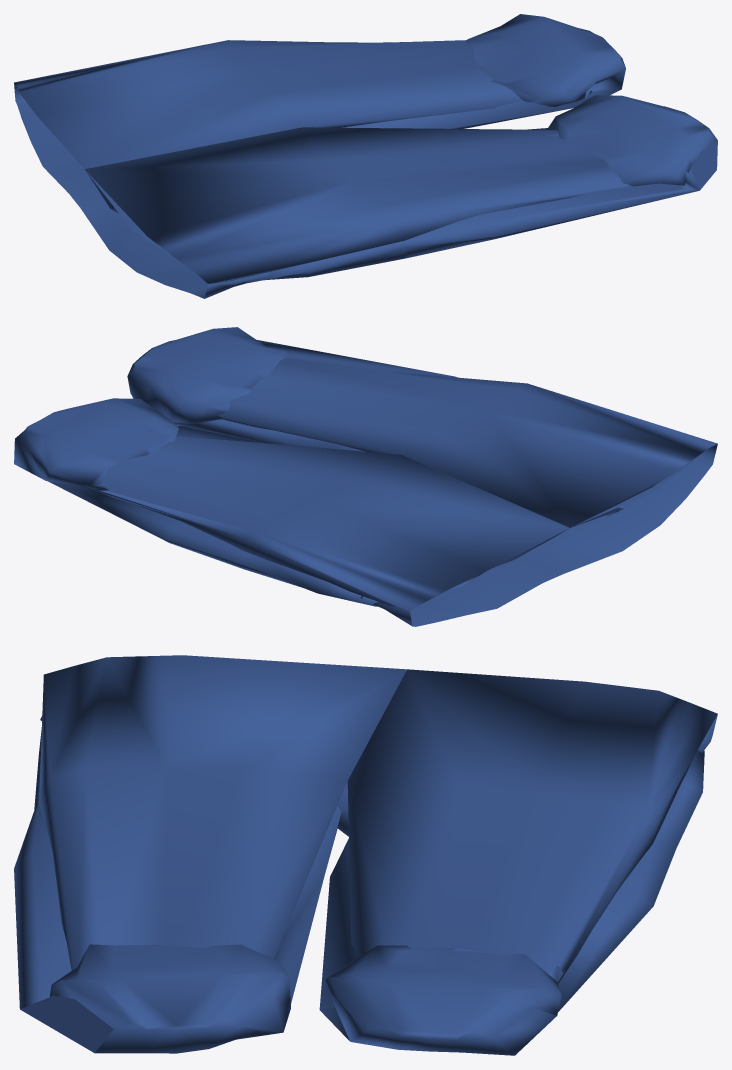
The model's file is slosht1.fbx.
The picture shows the model from 3 angles, top to bottom: view 1: azimuth 30°, elevation 25°; view 2: azimuth 150°, elevation 25°; view 3: azimuth 270°, elevation 25°; orthographic projection. The views are drawn at different scales.
Visible parts, largest first — view 1: Object_9.001; view 2: Object_9.001; view 3: Object_9.001.
Boxes of the visible parts, left/top/right/bottom form: Object_9.001: left=14, top=14, right=717, bottom=298; Object_9.001: left=14, top=327, right=717, bottom=626; Object_9.001: left=14, top=655, right=717, bottom=1055.
Bounding box in the file's own units: 95.18 × 9.79 × 78.13.
